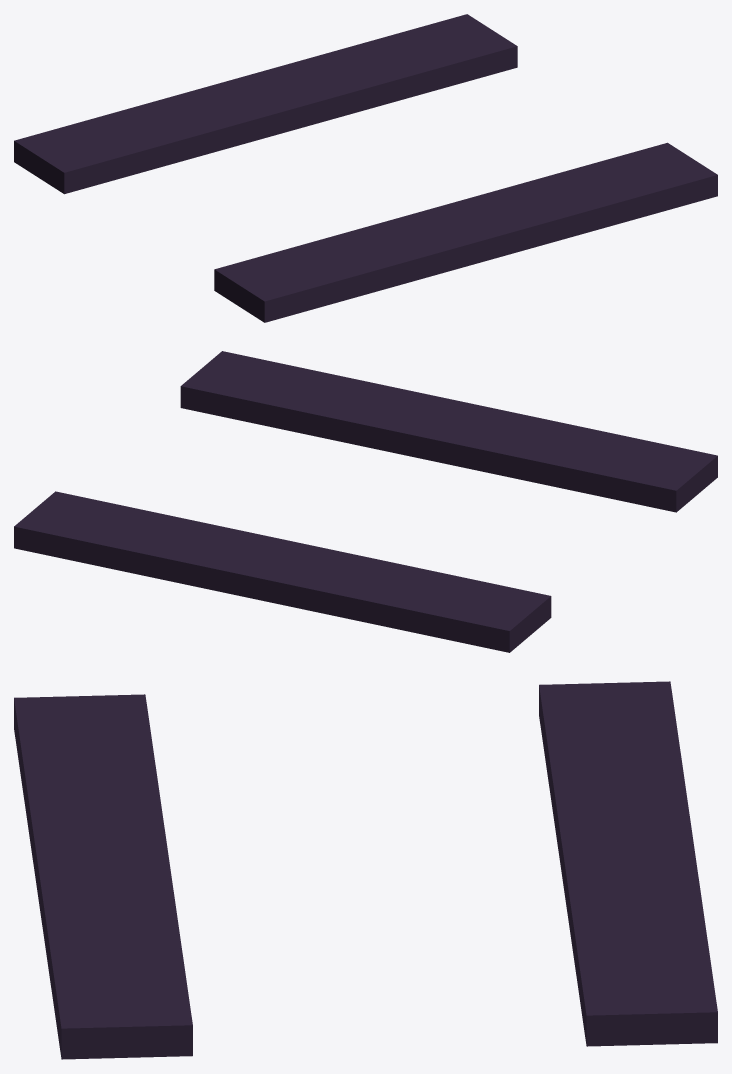
Rendered from Heavenly Fire_Base plate.fbx.
3 renders of one model, top to bottom at view 1: azimuth 30°, elevation 25°; view 2: azimuth 150°, elevation 25°; view 3: azimuth 270°, elevation 25°, orthographic. The views are drawn at different scales.
Parts seen in each view (by area): view 1: Heavenly Fire_Base plate_Baked; view 2: Heavenly Fire_Base plate_Baked; view 3: Heavenly Fire_Base plate_Baked.
Part boxes in pixels (x1=…): Heavenly Fire_Base plate_Baked: x1=14, y1=14, x2=717, y2=322; Heavenly Fire_Base plate_Baked: x1=14, y1=351, x2=717, y2=652; Heavenly Fire_Base plate_Baked: x1=14, y1=681, x2=717, y2=1059.
Size of the model in its own units: 211 by 8.76 by 181.
1 material, 1 textured.
